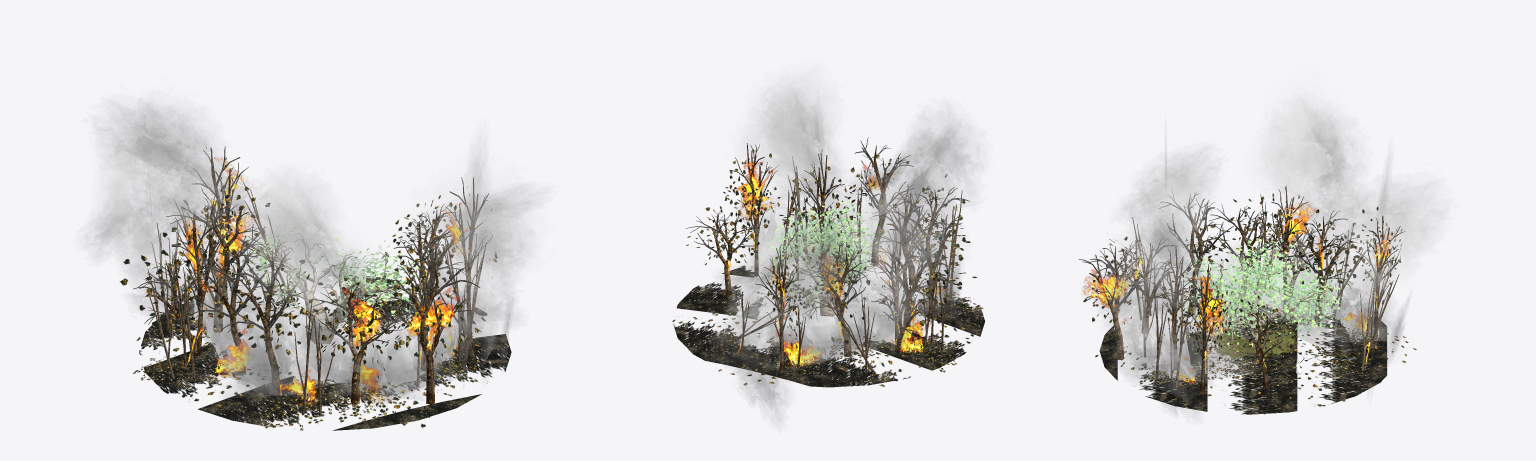
The model's file is dangerous_beauty_-_diorama.glb.
3 renders of one model, left to right at view 1: azimuth 30°, elevation 25°; view 2: azimuth 150°, elevation 25°; view 3: azimuth 270°, elevation 25°, orthographic. The views are drawn at different scales.
Visible parts, largest first — view 1: Smoke, Smoke.001, Smoke.002, Circle, Smoke.003, SmokeScreen, SmokeScreen.006, OldTree|Circle.027|Dupli|0.0.0.0.0.0.0.0.0, SmokeScreen.003, SmokeScreen.007, WideTree|Circle.001|Dupli|0.0.0.0.0.0.0.0.0, LeafsBurnt.028 (+25 smaller); view 2: Smoke.003, Smoke, Smoke.002, Circle, Smoke.001, SmokeScreen.002, OldTree|Circle.027|Dupli|0.0.0.0.0.0.0.0.0, SmokeScreen.005, SmokeScreen, SmokeScreen.001, WideTree|Circle.001|Dupli|0.0.0.0.0.0.0.0.0, LeafsBurnt.028 (+34 smaller); view 3: Smoke.003, Smoke, Smoke.002, Circle, Smoke.001, SmokeScreen.005, OldTree|Circle.027|Dupli|0.0.0.0.0.0.0.0.0, SmokeScreen.002, SmokeScreen.001, GreenFloor, SmokeScreen.004, SmokeScreen.007 (+31 smaller).
Part boxes in pixels (bbox=[...]): Smoke: bbox=[85, 104, 237, 318]; Smoke.001: bbox=[239, 169, 385, 383]; Smoke.002: bbox=[411, 135, 543, 380]; Circle: bbox=[139, 275, 511, 430]; Smoke.003: bbox=[114, 94, 293, 257]; SmokeScreen: bbox=[208, 304, 342, 398]; SmokeScreen.006: bbox=[321, 329, 451, 409]; OldTree|Circle.027|Dupli|0.0.0.0.0.0.0.0.0: bbox=[242, 233, 402, 343]; SmokeScreen.003: bbox=[283, 296, 419, 398]; SmokeScreen.007: bbox=[222, 283, 334, 373]; WideTree|Circle.001|Dupli|0.0.0.0.0.0.0.0.0: bbox=[188, 238, 270, 374]; LeafsBurnt.028: bbox=[119, 232, 256, 335]; Smoke.003: bbox=[711, 215, 861, 420]; Smoke: bbox=[845, 148, 963, 352]; Smoke.002: bbox=[737, 71, 853, 268]; Circle: bbox=[672, 266, 985, 387]; Smoke.001: bbox=[852, 108, 980, 256]; SmokeScreen.002: bbox=[749, 309, 869, 370]; OldTree|Circle.027|Dupli|0.0.0.0.0.0.0.0.0: bbox=[768, 214, 877, 319]; SmokeScreen.005: bbox=[748, 210, 863, 278]; SmokeScreen: bbox=[917, 253, 960, 331]; SmokeScreen.001: bbox=[833, 306, 915, 359]; WideTree|Circle.001|Dupli|0.0.0.0.0.0.0.0.0: bbox=[867, 223, 946, 326]; LeafsBurnt.028: bbox=[874, 233, 977, 326]; Smoke.003: bbox=[1323, 151, 1442, 395]; Smoke: bbox=[1251, 76, 1363, 319]; Smoke.002: bbox=[1100, 197, 1201, 413]; Circle: bbox=[1099, 304, 1387, 414]; Smoke.001: bbox=[1123, 128, 1217, 296]; SmokeScreen.005: bbox=[1150, 322, 1248, 384]; OldTree|Circle.027|Dupli|0.0.0.0.0.0.0.0.0: bbox=[1179, 249, 1331, 346]; SmokeScreen.002: bbox=[1299, 252, 1370, 359]; SmokeScreen.001: bbox=[1228, 247, 1332, 350]; GreenFloor: bbox=[1206, 325, 1298, 358]; SmokeScreen.004: bbox=[1145, 316, 1229, 378]; SmokeScreen.007: bbox=[1192, 258, 1305, 328].
Size of the model in its own units: 3015 by 2536 by 3105.
15 materials, 15 textured.
